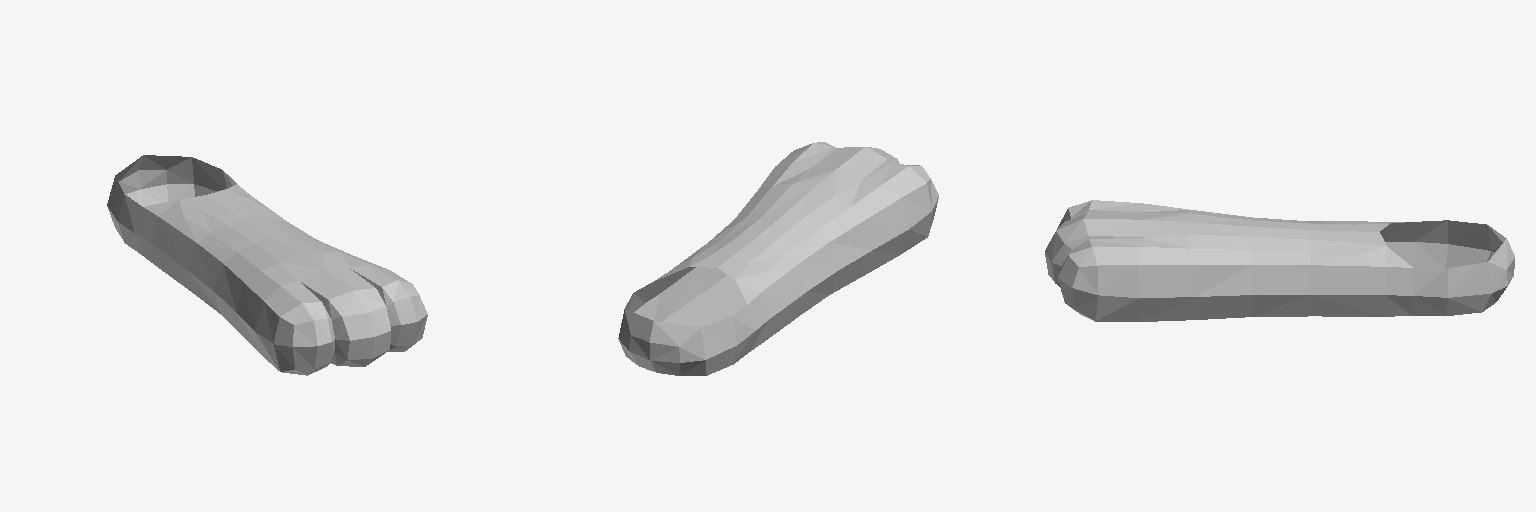
Rendered from foot_R.obj.
The picture shows the model from 3 angles: view 1: azimuth 30°, elevation 25°; view 2: azimuth 150°, elevation 25°; view 3: azimuth 270°, elevation 25°; orthographic projection.
Parts seen in each view (by area): view 1: Meowth; view 2: Meowth; view 3: Meowth.
Part boxes in pixels (left/top/right/bottom): Meowth: left=107, top=155, right=427, bottom=375; Meowth: left=618, top=142, right=938, bottom=375; Meowth: left=1045, top=200, right=1514, bottom=321.
Bounding box in the file's own units: 5.4 × 2.64 × 15.02.